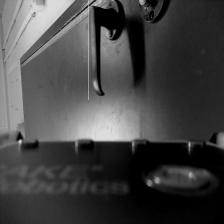Door Handle: (88, 0, 125, 100)
